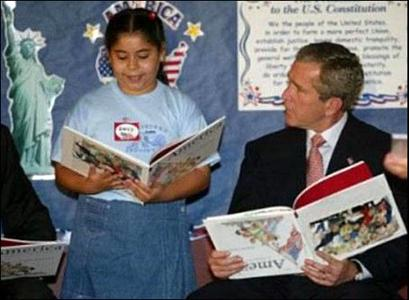person: (188, 43, 409, 300)
